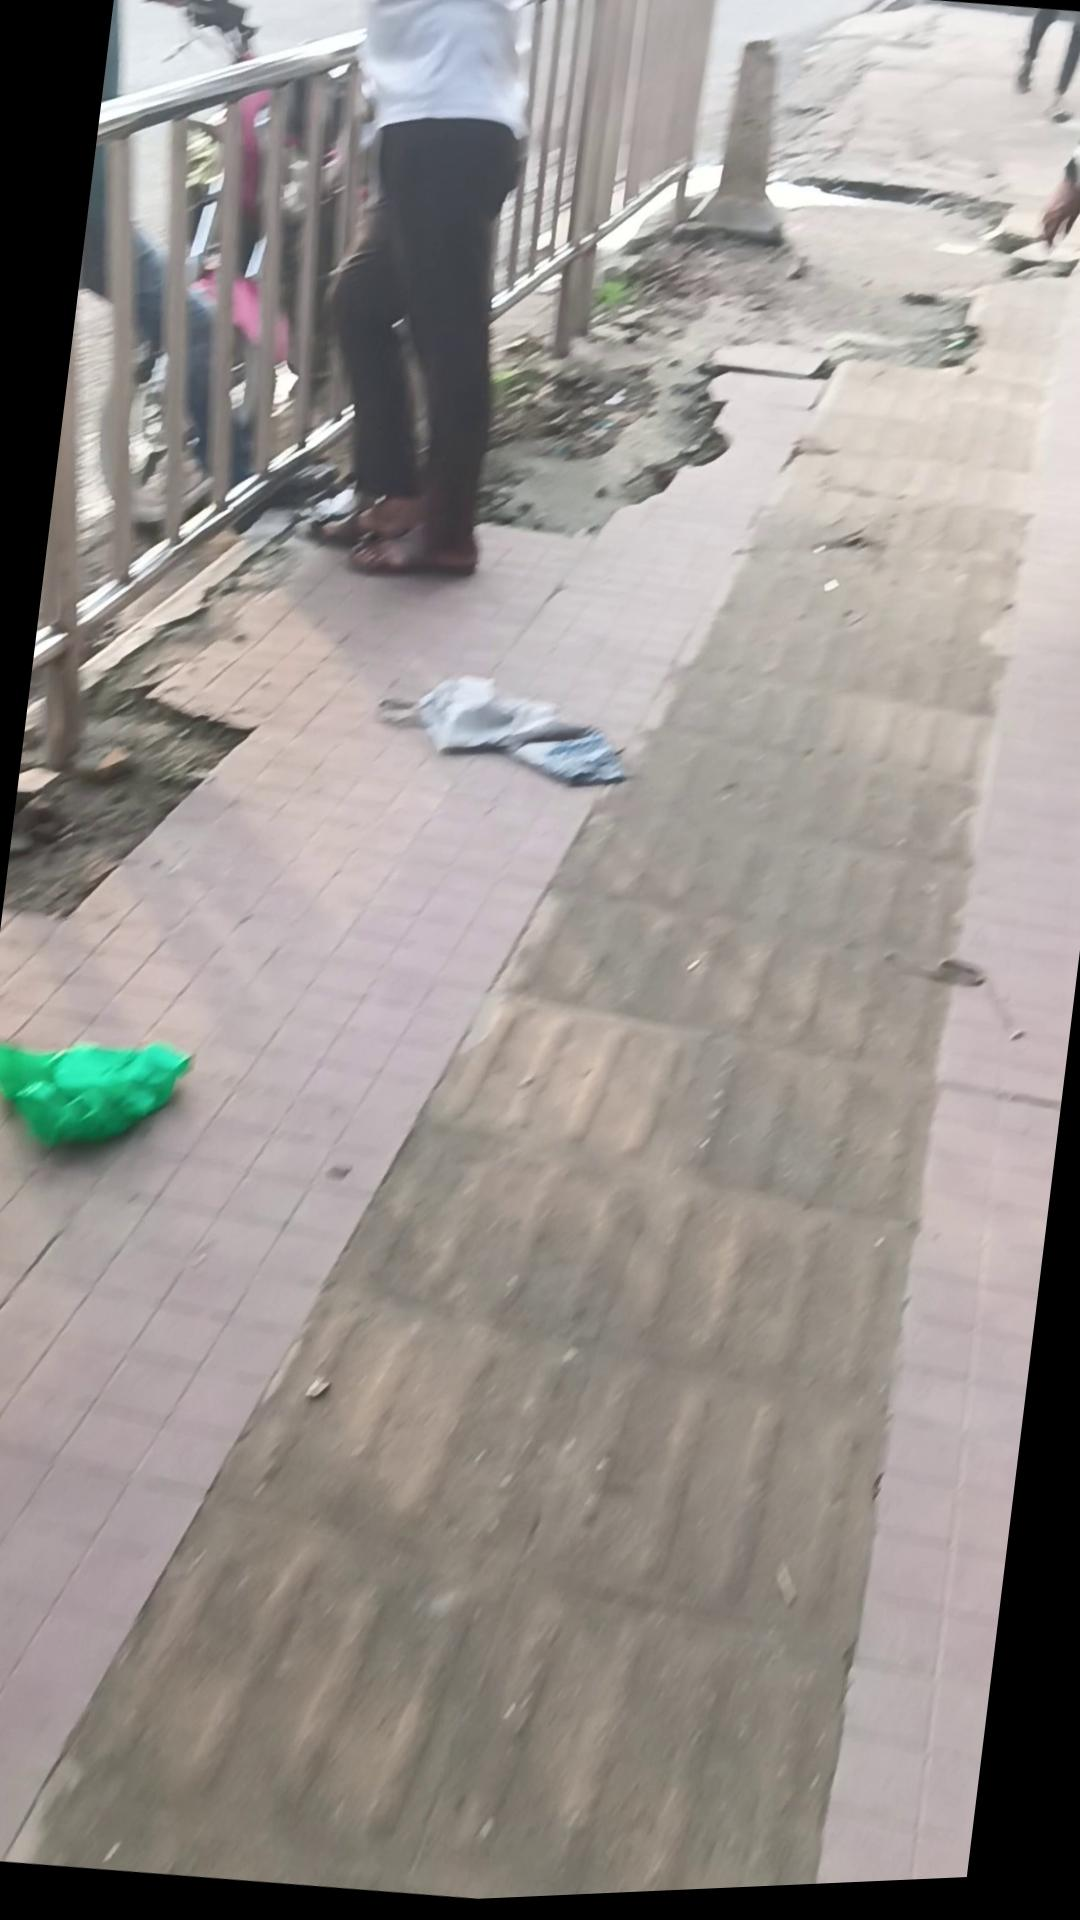Muddy road: (289, 0, 551, 593), (996, 20, 1080, 600), (1011, 15, 1080, 109)
Obstacle: (675, 34, 808, 256)
Potted-plant: (0, 119, 1080, 1920)
